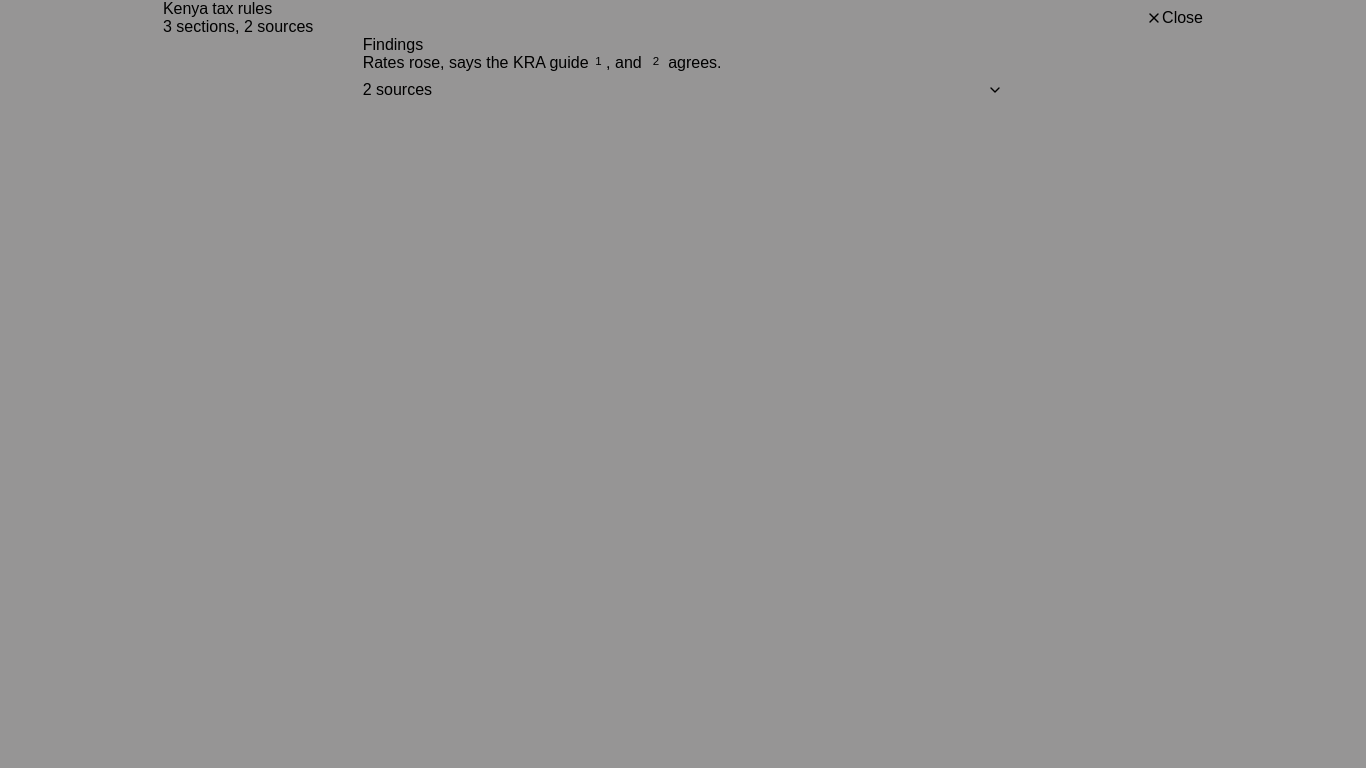
Scenario: what a report cites › turns a citation into a numbered chip after its words, which opens the source's title, site and link
Check: the element named "The report" shows "says the KRA guide", box [363, 36, 1003, 108]
Check: the button named "Source 2: Tax news" reads "2", box [648, 54, 664, 70]
Click the button named "Source 1: the KRA guide" at (598, 62), box [591, 54, 606, 70]
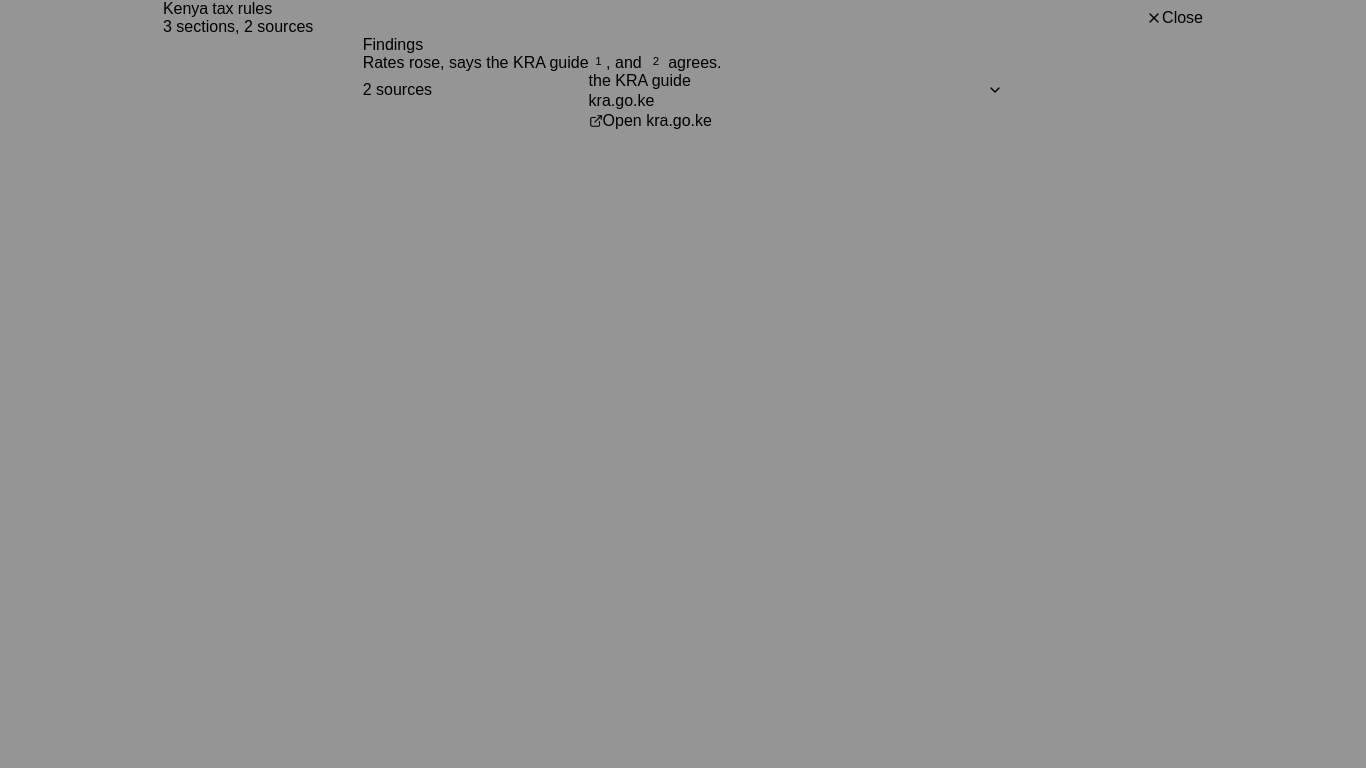
Check: the element named "Source 1: the KRA guide" shows "kra.go.ke", box [589, 92, 654, 109]
